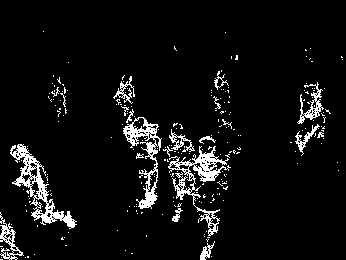person: (11, 143, 77, 228), (193, 136, 226, 259), (165, 121, 197, 223), (128, 116, 161, 207), (297, 82, 328, 155), (211, 69, 236, 131), (114, 72, 137, 120)
